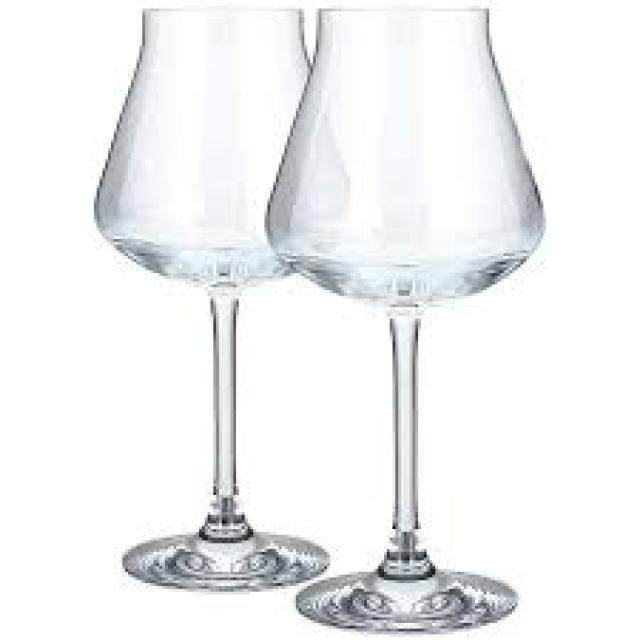glass: (262, 3, 543, 629), (88, 9, 333, 592)
